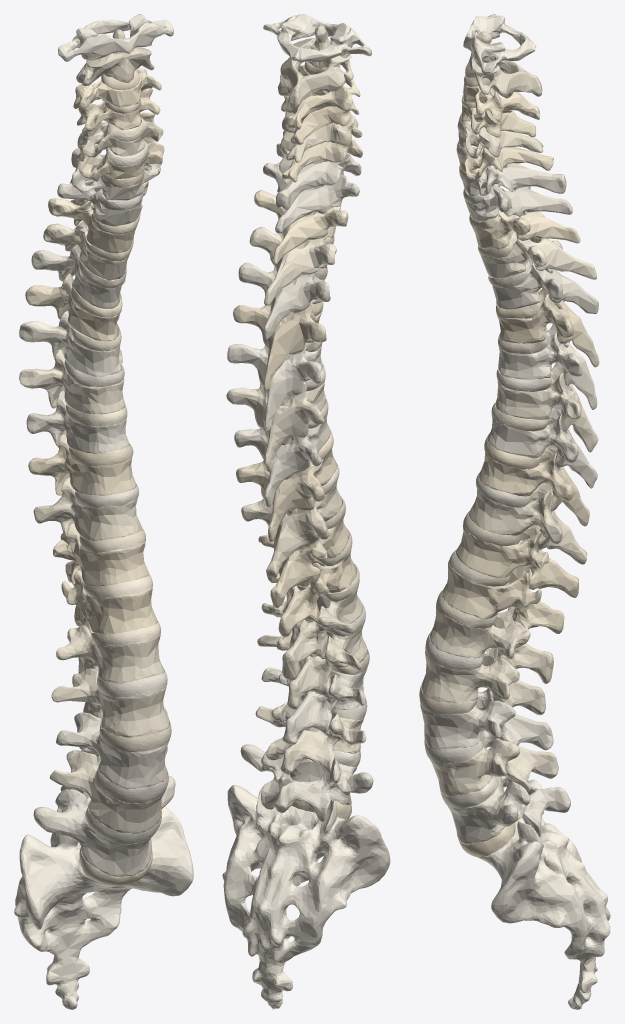
File: colonna_vertebrale.glb
3 renders of one model, left to right at view 1: azimuth 30°, elevation 25°; view 2: azimuth 150°, elevation 25°; view 3: azimuth 270°, elevation 25°, orthographic. The views are drawn at different scales.
Visible parts, largest first — view 1: posterior part of pelvis, fifth lumbar vertebra, second lumbar vertebra, third lumbar vertebra, fourth lumbar vertebra, first lumbar vertebra, tenth thoracic vertebra, twelfth thoracic vertebra, eleventh thoracic vertebra, ninth thoracic vertebra, atlas, seventh thoracic vertebra (+33 smaller); view 2: posterior part of pelvis, fifth lumbar vertebra, fourth lumbar vertebra, seventh thoracic vertebra, third lumbar vertebra, first lumbar vertebra, tenth thoracic vertebra, second lumbar vertebra, ninth thoracic vertebra, fifth thoracic vertebra, sixth thoracic vertebra, eighth thoracic vertebra (+14 smaller); view 3: posterior part of pelvis, third lumbar vertebra, first lumbar vertebra, second lumbar vertebra, fifth lumbar vertebra, twelfth thoracic vertebra, fourth lumbar vertebra, eleventh thoracic vertebra, tenth thoracic vertebra, ninth thoracic vertebra, seventh thoracic vertebra, eighth thoracic vertebra (+27 smaller).
Part boxes in pixels (x1,y1,x2,y2): posterior part of pelvis: [14, 806, 193, 1009]; fifth lumbar vertebra: [33, 776, 175, 877]; second lumbar vertebra: [51, 668, 169, 737]; third lumbar vertebra: [56, 707, 168, 789]; fourth lumbar vertebra: [49, 747, 167, 833]; first lumbar vertebra: [56, 625, 164, 683]; tenth thoracic vertebra: [33, 477, 142, 544]; twelfth thoracic vertebra: [61, 570, 157, 633]; eleventh thoracic vertebra: [53, 523, 149, 586]; ninth thoracic vertebra: [28, 434, 136, 495]; atlas: [58, 14, 173, 61]; seventh thoracic vertebra: [19, 349, 124, 414]; posterior part of pelvis: [222, 785, 390, 1009]; fifth lumbar vertebra: [240, 744, 373, 822]; fourth lumbar vertebra: [255, 702, 366, 774]; seventh thoracic vertebra: [226, 381, 325, 471]; third lumbar vertebra: [261, 667, 367, 744]; first lumbar vertebra: [261, 585, 363, 680]; tenth thoracic vertebra: [241, 481, 342, 577]; second lumbar vertebra: [257, 625, 367, 709]; ninth thoracic vertebra: [236, 449, 336, 541]; fifth thoracic vertebra: [233, 302, 326, 390]; sixth thoracic vertebra: [227, 344, 322, 431]; eighth thoracic vertebra: [234, 412, 330, 507]; posterior part of pelvis: [478, 779, 610, 1009]; third lumbar vertebra: [420, 688, 553, 750]; first lumbar vertebra: [429, 604, 553, 683]; second lumbar vertebra: [421, 648, 545, 715]; fifth lumbar vertebra: [448, 775, 570, 844]; twelfth thoracic vertebra: [442, 561, 564, 633]; fourth lumbar vertebra: [430, 730, 558, 796]; eleventh thoracic vertebra: [456, 524, 578, 597]; tenth thoracic vertebra: [469, 483, 587, 564]; ninth thoracic vertebra: [479, 445, 589, 526]; seventh thoracic vertebra: [495, 363, 598, 452]; eighth thoracic vertebra: [487, 405, 597, 488].
Bounding box in the file's own units: 118 × 699 × 123.
